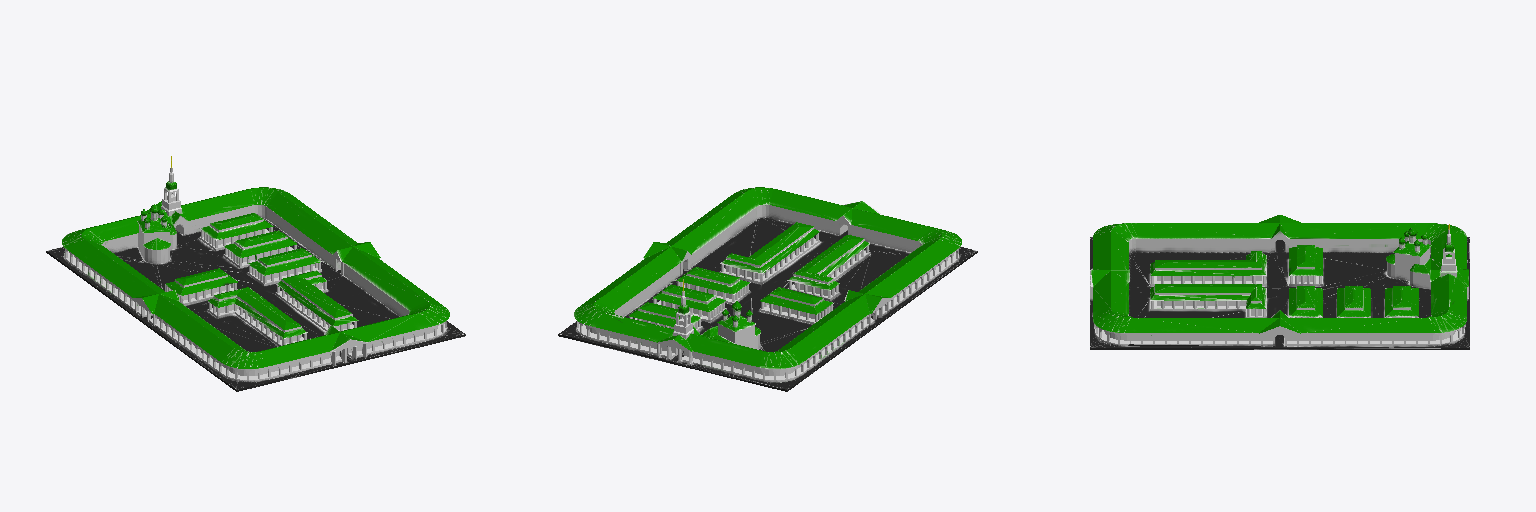
3 views of the same model, side by side, from view 1: azimuth 30°, elevation 25°; view 2: azimuth 150°, elevation 25°; view 3: azimuth 270°, elevation 25° (orthographic).
Visible parts, largest first — view 1: Красные_ряды_2; view 2: Красные_ряды_2; view 3: Красные_ряды_2.
Boxes of the visible parts, x1=… form: Красные_ряды_2: x1=46, y1=156, x2=465, y2=391; Красные_ряды_2: x1=558, y1=187, x2=977, y2=391; Красные_ряды_2: x1=1090, y1=215, x2=1469, y2=349.
Size of the model in its own units: 118 by 38 by 170.
1 materials, 1 textured.